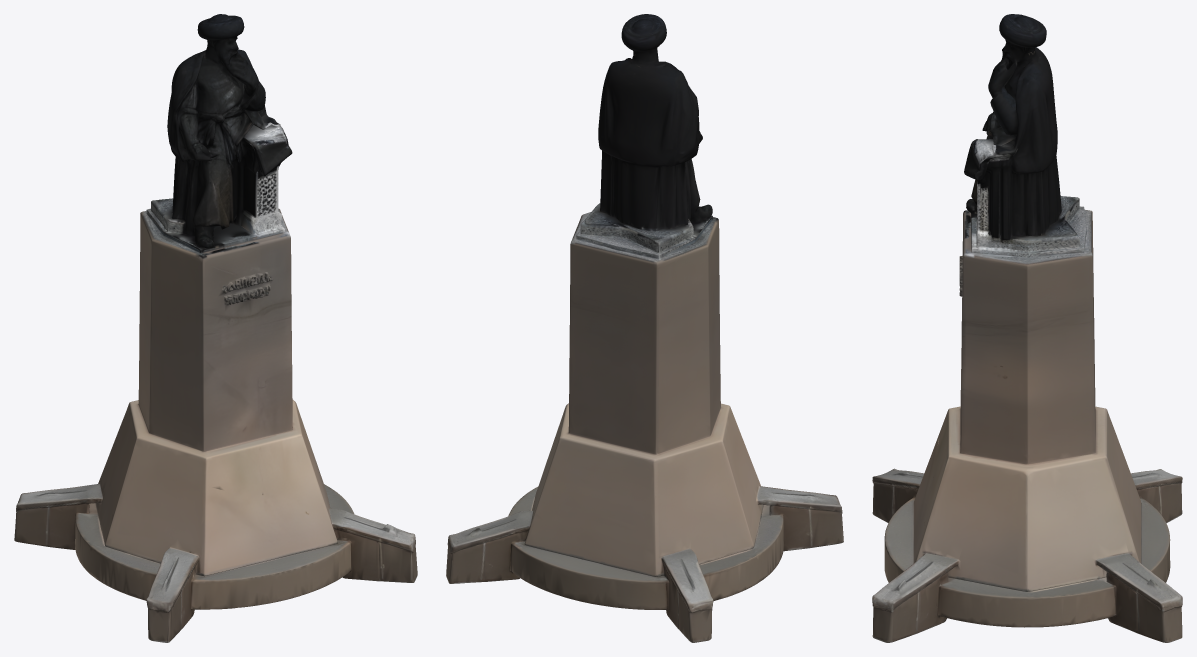
Rendered from statue-3.glb.
3 views of the same model, side by side, from view 1: azimuth 30°, elevation 25°; view 2: azimuth 150°, elevation 25°; view 3: azimuth 270°, elevation 25° (orthographic). The views are drawn at different scales.
Parts seen in each view (by area): view 1: node_0; view 2: node_0; view 3: node_0.
Boxes of the visible parts, box(x1,y1,x2,y2) form: node_0: box(14, 14, 417, 642); node_0: box(446, 14, 843, 642); node_0: box(872, 14, 1182, 642).
Size of the model in its own units: 0.5103 by 0.9885 by 0.4962.
Materials: 1 (1 with a texture image).
